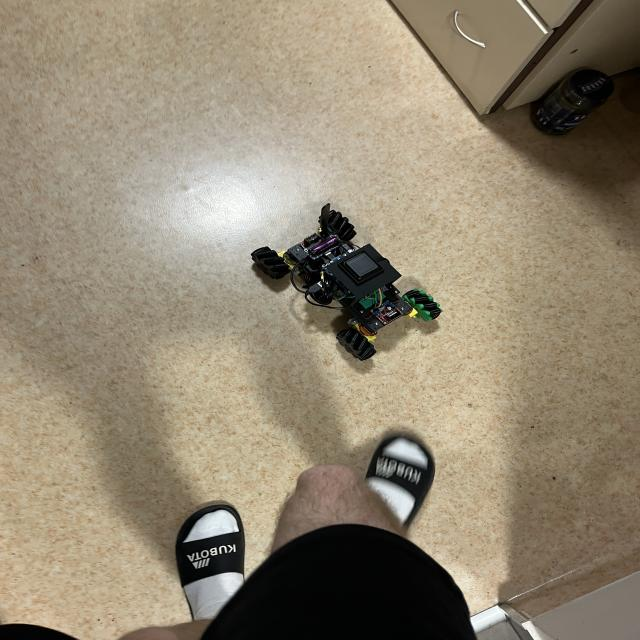robot: (251, 203, 442, 360)
